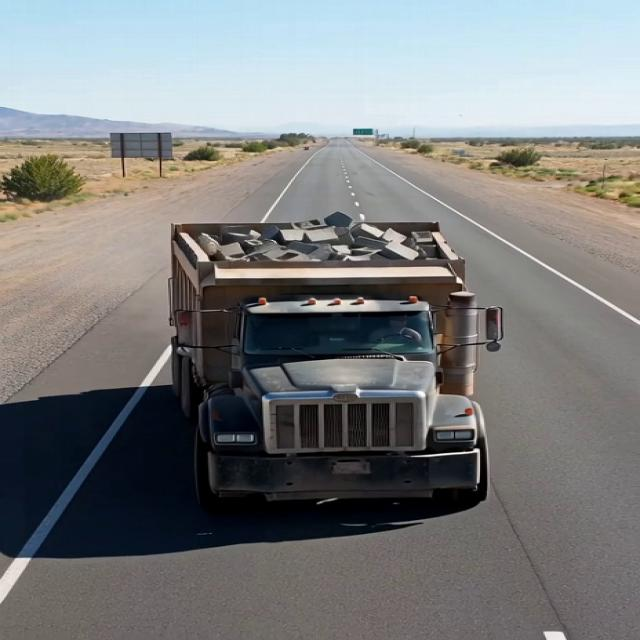trailer: (141, 213, 481, 290)
truck: (123, 189, 507, 519)
